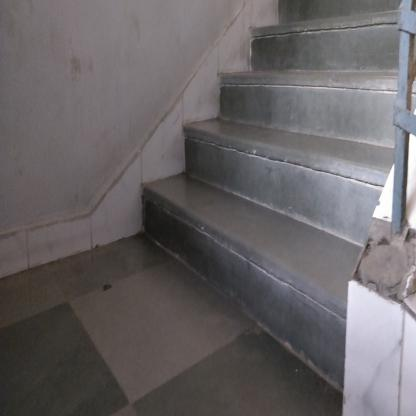stairs: (222, 66, 343, 387)
